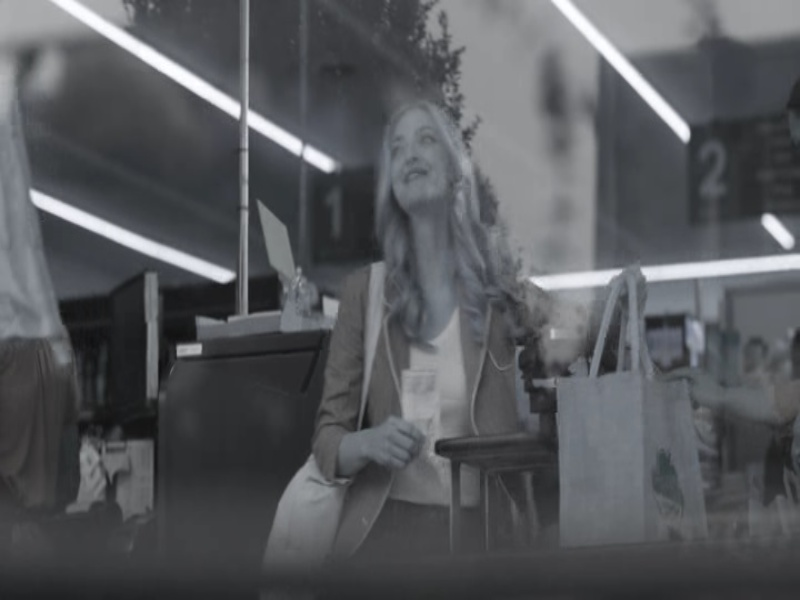TsisyArotava: (376, 103, 477, 230)
